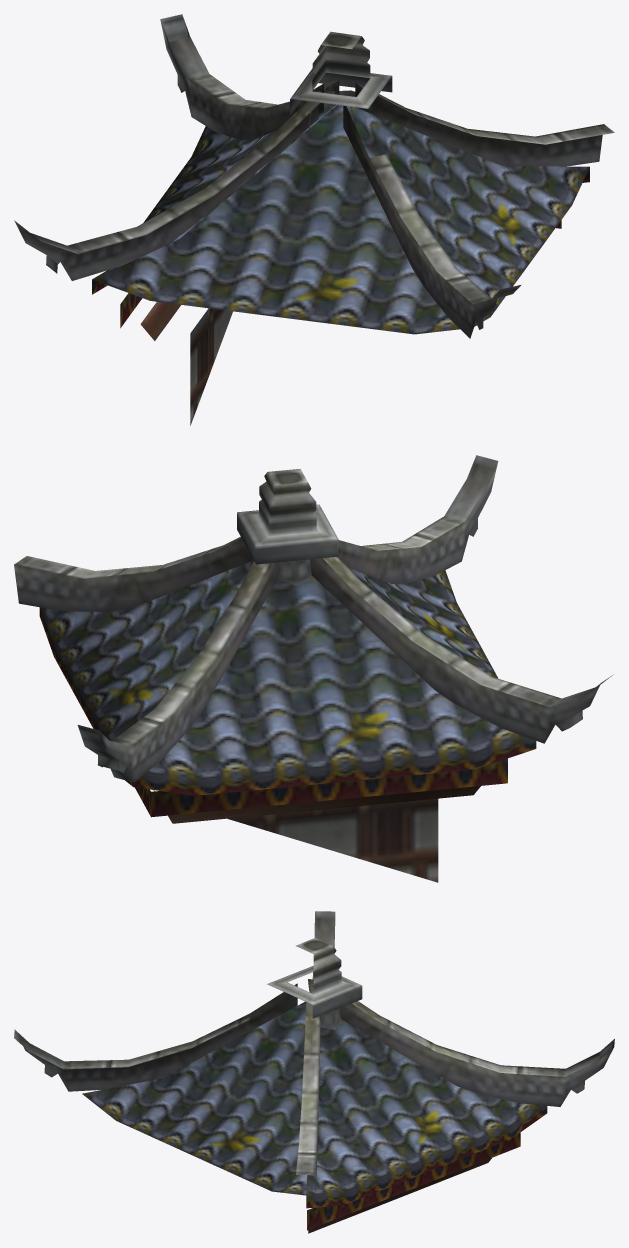
The model's file is S2_Build_XSC016_H8.FBX.
The picture shows the model from 3 angles, top to bottom: view 1: azimuth 30°, elevation 25°; view 2: azimuth 150°, elevation 25°; view 3: azimuth 270°, elevation 25°; orthographic projection. The views are drawn at different scales.
Parts seen in each view (by area): view 1: S2_Build_XSC016_H8; view 2: S2_Build_XSC016_H8; view 3: S2_Build_XSC016_H8.
Boxes of the visible parts, box(x1,y1,x2,y2) form: S2_Build_XSC016_H8: box(14, 14, 614, 425); S2_Build_XSC016_H8: box(14, 455, 612, 882); S2_Build_XSC016_H8: box(14, 911, 614, 1233).
Bounding box in the file's own units: 3039 × 1770 × 3297.
